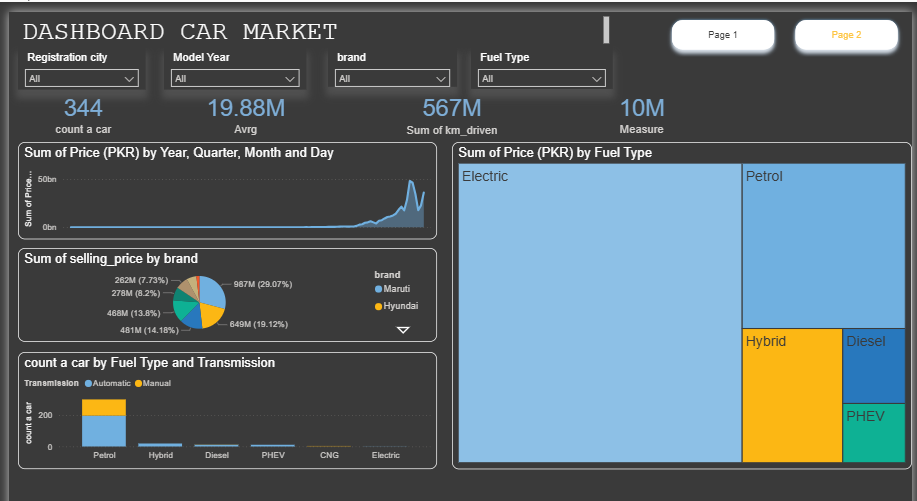

What the dashboard file says about the page in this screenshot:
{"tool":"powerbi","page":{"name":"Page 1","canvas":[1280,720],"ordinal":0},"visuals":[{"type":"card","fields":{"Values":["Pakistan_Used_Cars.count a car"]},"box":[17.1,102.5,176.9,81.8],"z":0},{"type":"card","fields":{"Values":["Sum(Used_Car_Prices.km_driven)"]},"box":[500.3,106.2,255,74.4],"z":1000},{"type":"card","fields":{"Values":["Pakistan_Used_Cars.Avrg"]},"box":[219.6,102.5,231.8,81.8],"z":2000},{"type":"card","fields":{"Values":["Used_Car_Prices.Measure"]},"box":[780.9,102.5,231.8,81.8],"z":3000},{"type":"pieChart","fields":{"Category":["Used_Car_Prices.brand"],"Y":["Sum(Used_Car_Prices.selling_price)"]},"box":[13.4,334.3,594.2,133],"z":5000},{"type":"areaChart","fields":{"Category":["Pakistan_Used_Cars.Model Year.Variation.Date Hierarchy.Year","Pakistan_Used_Cars.Model Year.Variation.Date Hierarchy.Quarter","Pakistan_Used_Cars.Model Year.Variation.Date Hierarchy.Month","Pakistan_Used_Cars.Model Year.Variation.Date Hierarchy.Day"],"Y":["Sum(Pakistan_Used_Cars.Price (PKR))"]},"box":[13.4,184.3,594.2,137.9],"z":6000},{"type":"columnChart","fields":{"Y":["Pakistan_Used_Cars.count a car"],"Category":["Pakistan_Used_Cars.Fuel Type"],"Series":["Pakistan_Used_Cars.Transmission"]},"box":[13.4,482,594.2,165.9],"z":7000},{"type":"treemap","fields":{"Group":["BMW_Cars_Pakistan.Fuel Type"],"Values":["Sum(BMW_Cars_Pakistan.Price (PKR))"]},"box":[628.4,184.3,651.6,463.7],"z":8000},{"type":"pageNavigator","box":[929.8,1.2,341.7,62.2],"z":9000},{"type":"slicer","fields":{"Values":["Pakistan_Used_Cars.Model Year"]},"box":[220.1,50.4,201.6,58.8],"z":10000},{"type":"slicer","fields":{"Values":["BMW_Cars_Pakistan.Fuel Type"]},"box":[654.9,51,201.3,58.1],"z":11000},{"type":"slicer","fields":{"Values":["BMW_Cars_Pakistan.brand"]},"box":[451.9,50.4,183.1,55.4],"z":12000},{"type":"slicer","fields":{"Values":["olx_used_cars.Registration city"]},"box":[13.4,51.2,180.6,58.6],"z":13000},{"type":"textbox","box":[13.4,1.2,843.2,50],"z":14000}]}

Visuals, with their boxes in screenshot pixels (x1, y1, x2, y2), scaled from the page's 1280x720 canvas onto the 917x501 screenshot:
card - Pakistan_Used_Cars.count a car: (12, 71, 139, 128)
card - Sum(Used_Car_Prices.km_driven): (358, 74, 541, 126)
card - Pakistan_Used_Cars.Avrg: (157, 71, 323, 128)
card - Used_Car_Prices.Measure: (559, 71, 726, 128)
pieChart - Used_Car_Prices.brand x Sum(Used_Car_Prices.selling_price): (10, 233, 435, 325)
areaChart - Pakistan_Used_Cars.Model Year.Variation.Date Hierarchy.Year x Pakistan_Used_Cars.Model Year.Variation.Date Hierarchy.Quarter: (10, 128, 435, 224)
columnChart - Pakistan_Used_Cars.count a car x Pakistan_Used_Cars.Fuel Type: (10, 335, 435, 451)
treemap - BMW_Cars_Pakistan.Fuel Type x Sum(BMW_Cars_Pakistan.Price (PKR)): (450, 128, 916, 451)
pageNavigator: (666, 1, 911, 44)
slicer - Pakistan_Used_Cars.Model Year: (158, 35, 302, 76)
slicer - BMW_Cars_Pakistan.Fuel Type: (469, 35, 613, 76)
slicer - BMW_Cars_Pakistan.brand: (324, 35, 455, 74)
slicer - olx_used_cars.Registration city: (10, 36, 139, 76)
textbox: (10, 1, 614, 36)
